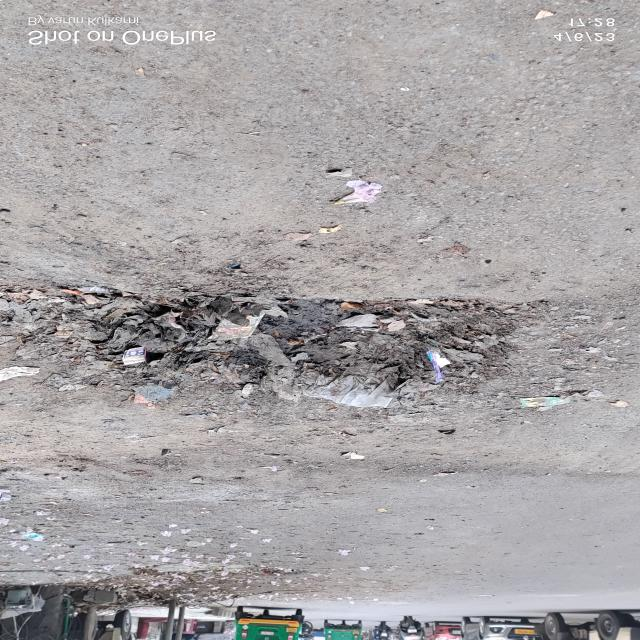potholes: (86, 281, 538, 415)
